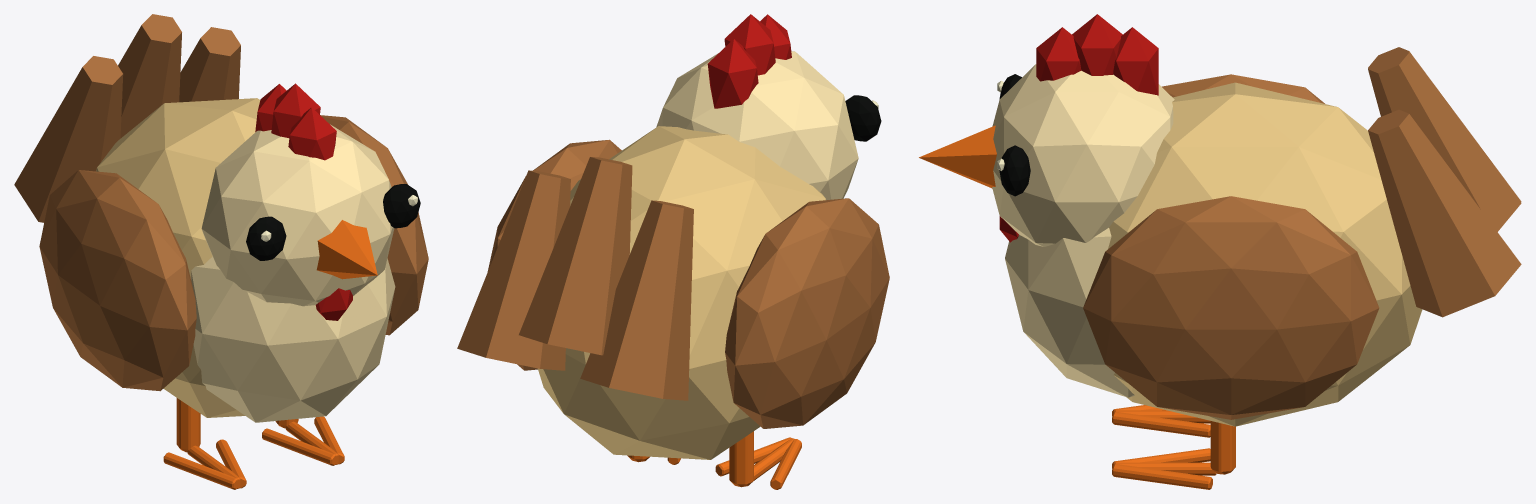
Rendered from Chicken.glb.
The picture shows the model from 3 angles, left to right: view 1: azimuth 30°, elevation 25°; view 2: azimuth 150°, elevation 25°; view 3: azimuth 270°, elevation 25°; orthographic projection. The views are drawn at different scales.
Parts seen in each view (by area): view 1: Chicken_Wing_R, Chicken_Head, Chicken_Breast, Chicken_TailFan, Chicken_Body, Chicken_Wing_L, Chicken_Comb, Chicken_Beak, Chicken_Foot_R, Chicken_Foot_L, Chicken_Eye_R, Chicken_Eye_L (+2 smaller); view 2: Chicken_TailFan, Chicken_Body, Chicken_Wing_R, Chicken_Head, Chicken_Comb, Chicken_Wing_L, Chicken_Foot_R, Chicken_Eye_R, Chicken_Leg_R; view 3: Chicken_Wing_L, Chicken_Body, Chicken_TailFan, Chicken_Head, Chicken_Breast, Chicken_Comb, Chicken_Foot_L, Chicken_Beak, Chicken_Foot_R, Chicken_Wing_R, Chicken_Leg_L, Chicken_Eye_L.
Part boxes in pixels (x1,y1,x2,y2): Chicken_Wing_R: (39,170,196,391); Chicken_Head: (201,124,394,306); Chicken_Breast: (191,256,395,422); Chicken_TailFan: (14,14,240,222); Chicken_Body: (96,98,260,417); Chicken_Wing_L: (320,115,428,335); Chicken_Comb: (255,83,336,160); Chicken_Beak: (316,220,377,279); Chicken_Foot_R: (163,439,246,489); Chicken_Foot_L: (262,416,344,465); Chicken_Eye_R: (246,216,286,260); Chicken_Eye_L: (383,184,420,228); Chicken_TailFan: (457,157,693,400); Chicken_Body: (537,126,825,459); Chicken_Wing_R: (725,198,889,428); Chicken_Head: (656,51,858,199); Chicken_Comb: (707,14,791,108); Chicken_Wing_L: (487,139,621,370); Chicken_Foot_R: (715,437,801,489); Chicken_Eye_R: (845,95,881,141); Chicken_Leg_R: (729,431,753,487); Chicken_Wing_L: (1083,196,1379,419); Chicken_Body: (1108,82,1422,426); Chicken_TailFan: (1368,47,1521,317); Chicken_Head: (992,64,1174,246); Chicken_Breast: (1005,228,1134,397); Chicken_Comb: (1036,14,1158,95); Chicken_Foot_L: (1112,448,1216,489); Chicken_Beak: (919,125,996,188); Chicken_Foot_R: (1112,405,1210,437); Chicken_Wing_R: (1162,74,1324,103); Chicken_Leg_L: (1210,421,1235,474); Chicken_Eye_L: (999,145,1030,196).
Size of the model in its own units: 0.9473 by 1.17 by 1.47.
